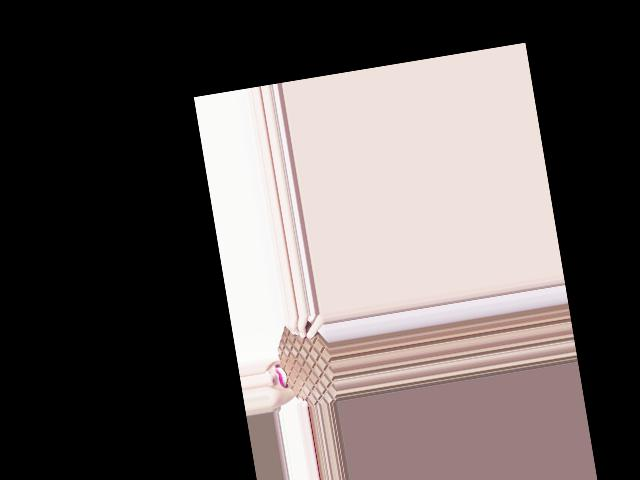chocolate: (270, 312, 337, 410)
